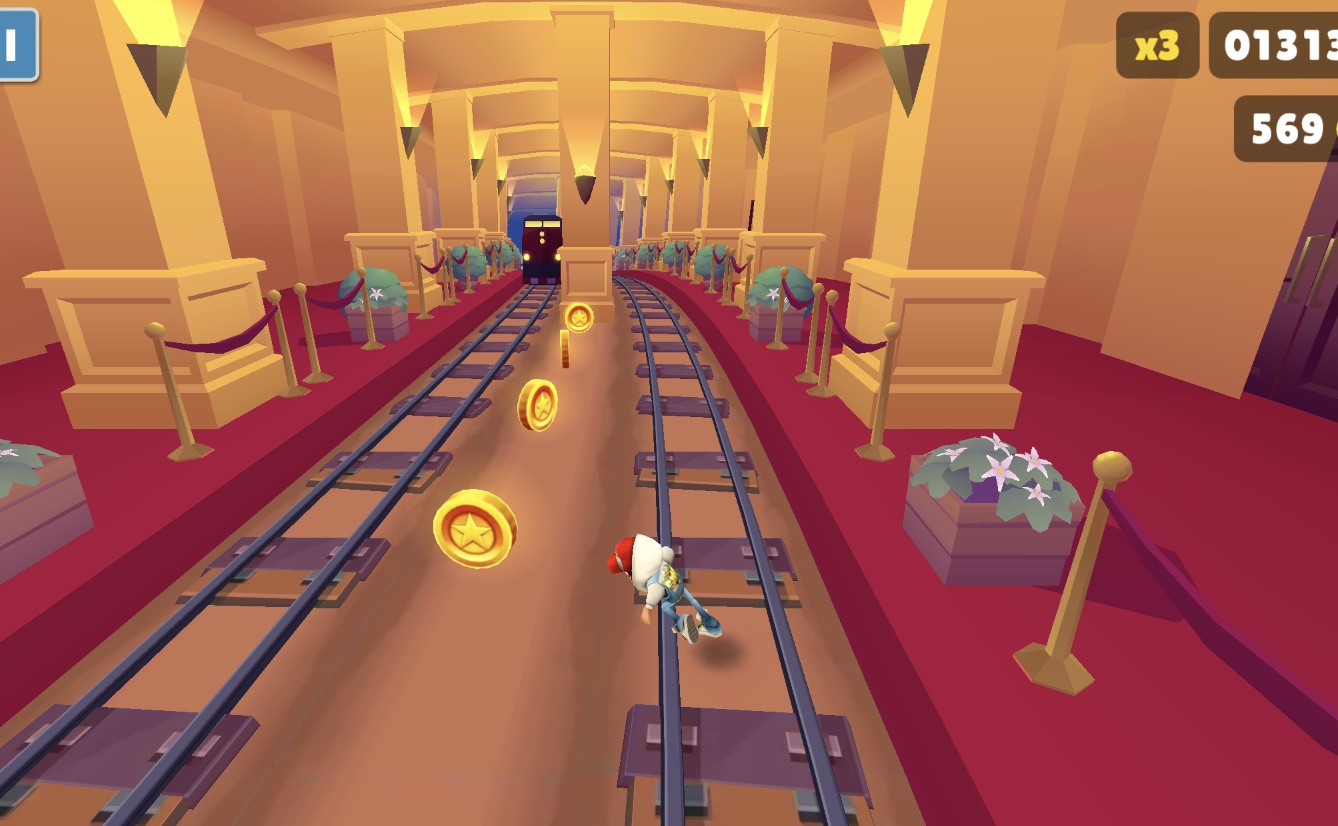pillar: (557, 0, 617, 314)
train: (517, 202, 564, 289)
